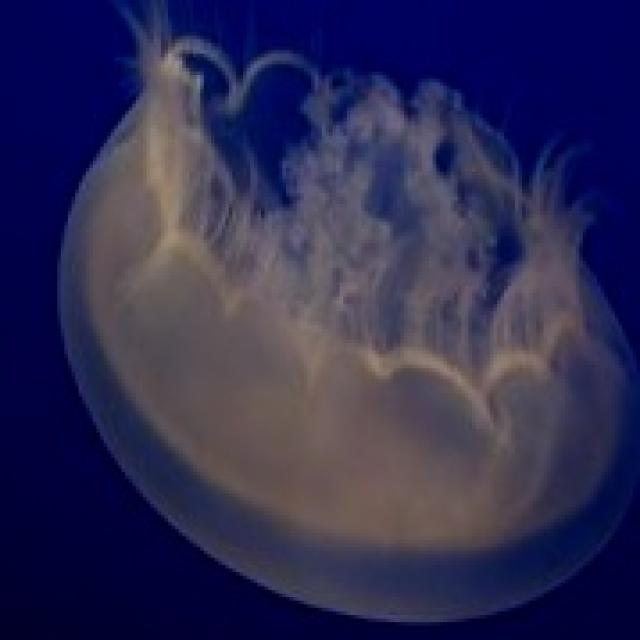Jellyfish: (54, 0, 636, 622)
